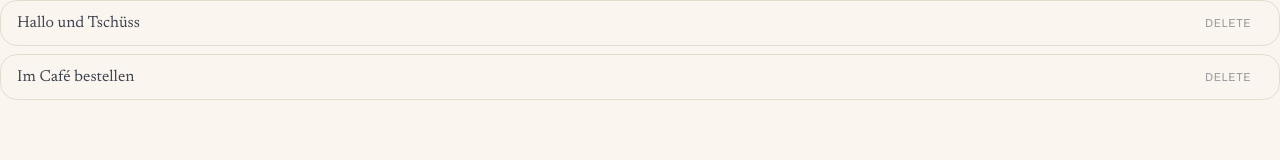
Test: asking first › backs out and leaves the conversation alone
The image size is (1280, 160).
Click the button "Delete" in the row of "Hallo und Tschüss". click: (1228, 23)
box: [1193,11,1263,35]
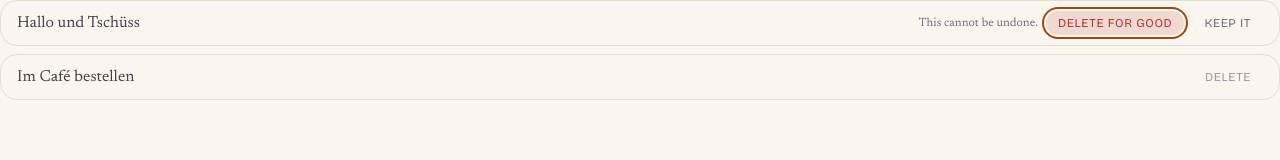
Click the button "Keep it". click: (1228, 23)
box: [1192,11,1263,35]
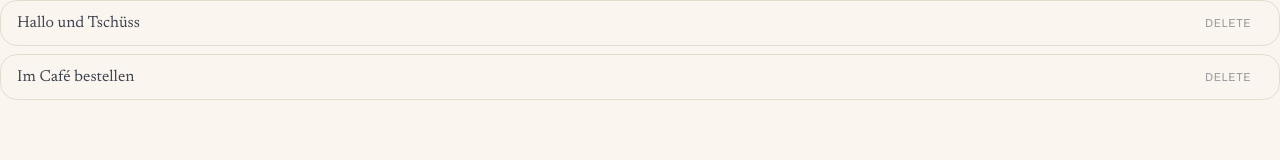
expect the text "cannot be undone" is gone: met
